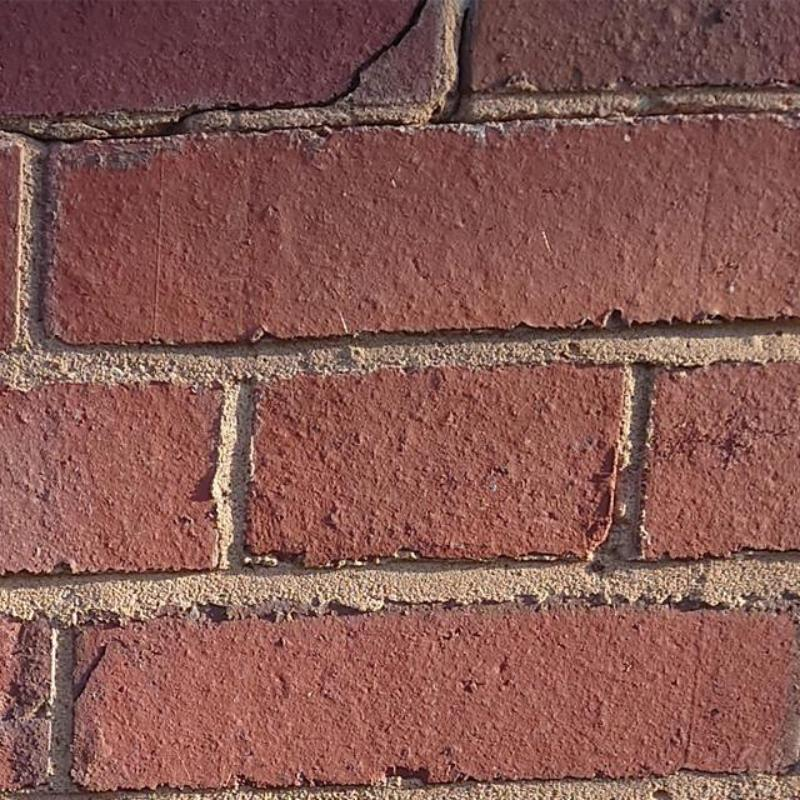crack: (1, 1, 425, 143), (431, 1, 473, 123), (458, 109, 778, 125), (228, 118, 418, 134), (72, 644, 108, 702)
